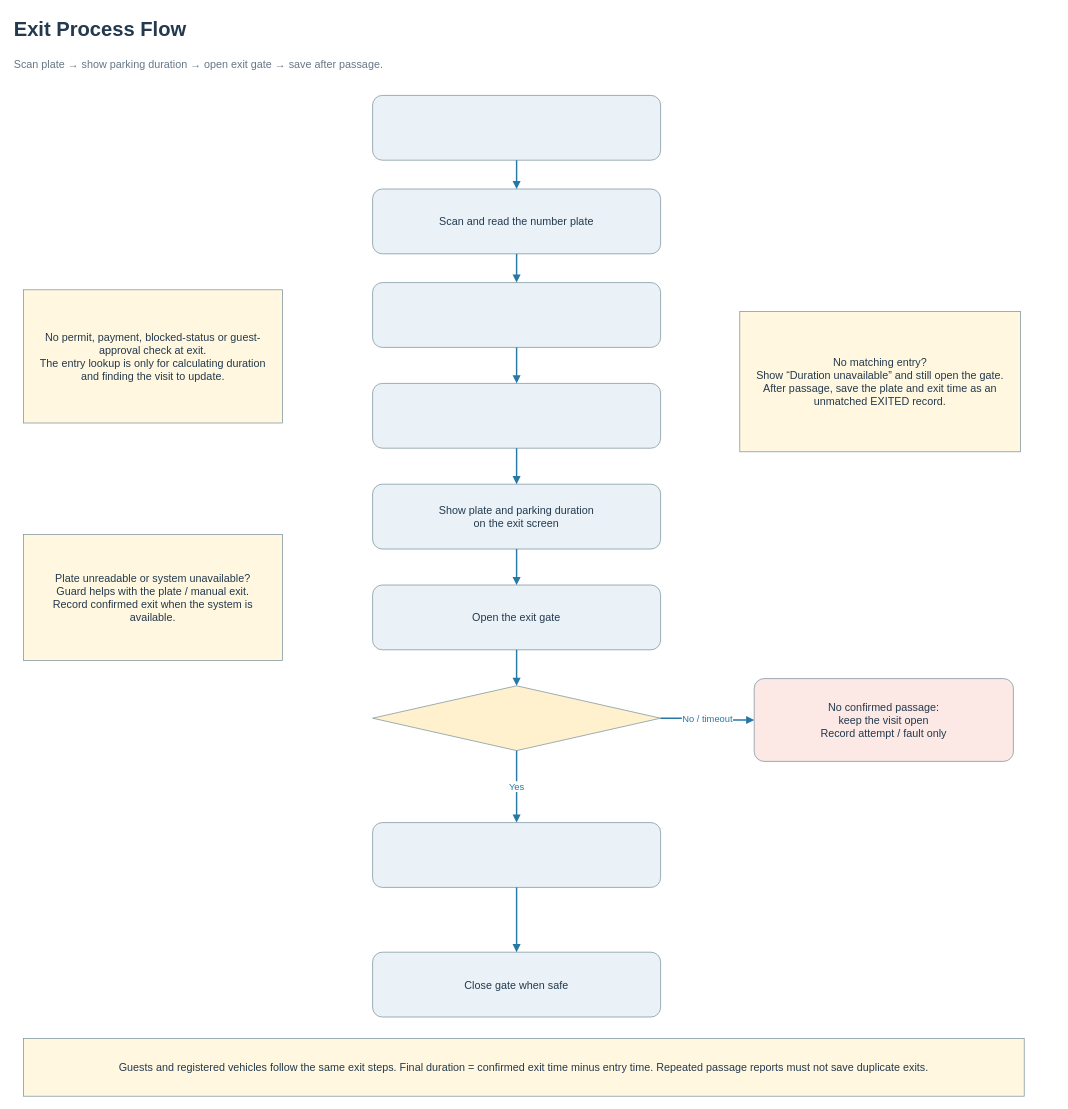
This 1068x1109 diagram has some shape labels left out. Here are the shapes that lost their labels. From the top down, the centre of each, then its label:
(516,127): Vehicle reaches exit
(516,314): Find the latest open visit for this plate Read the entry time
(516,415): Calculate parking duration Current time minus entry time
(516,718): Vehicle passed the gate?
(516,854): Save exit time and final duration Mark this visit as EXITED in the database
